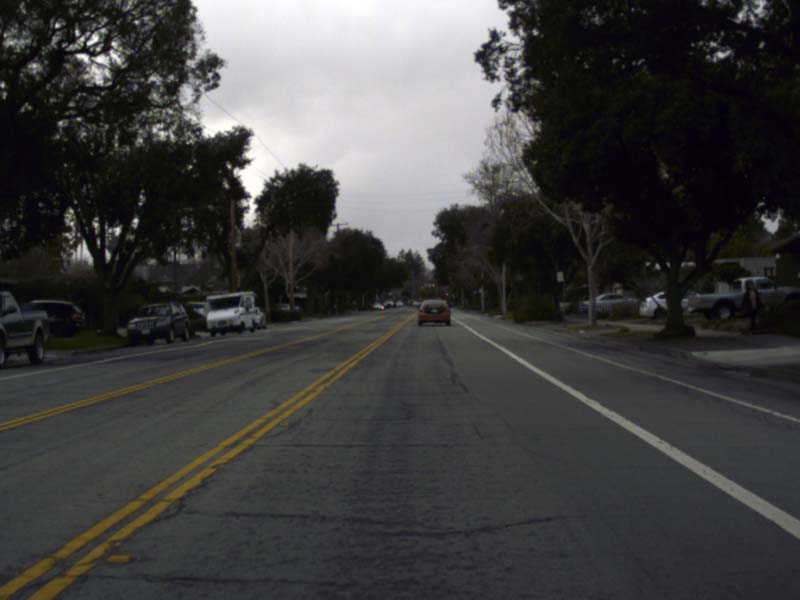Red: (445, 289, 449, 297), (431, 282, 435, 288)
